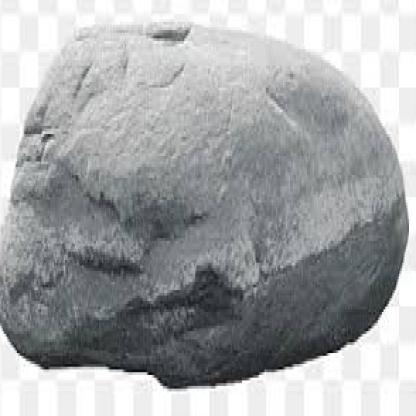Metamorphic_Marble: (0, 8, 409, 386)
